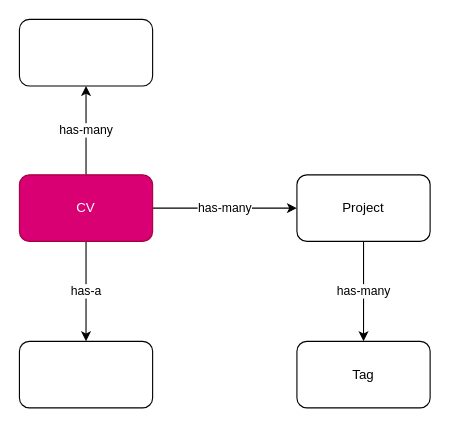
This 450x427 diagram has some shape labels left out. Each missing label, with the box of its shape:
Skill: (18, 18, 153, 86)
User: (18, 340, 153, 408)
